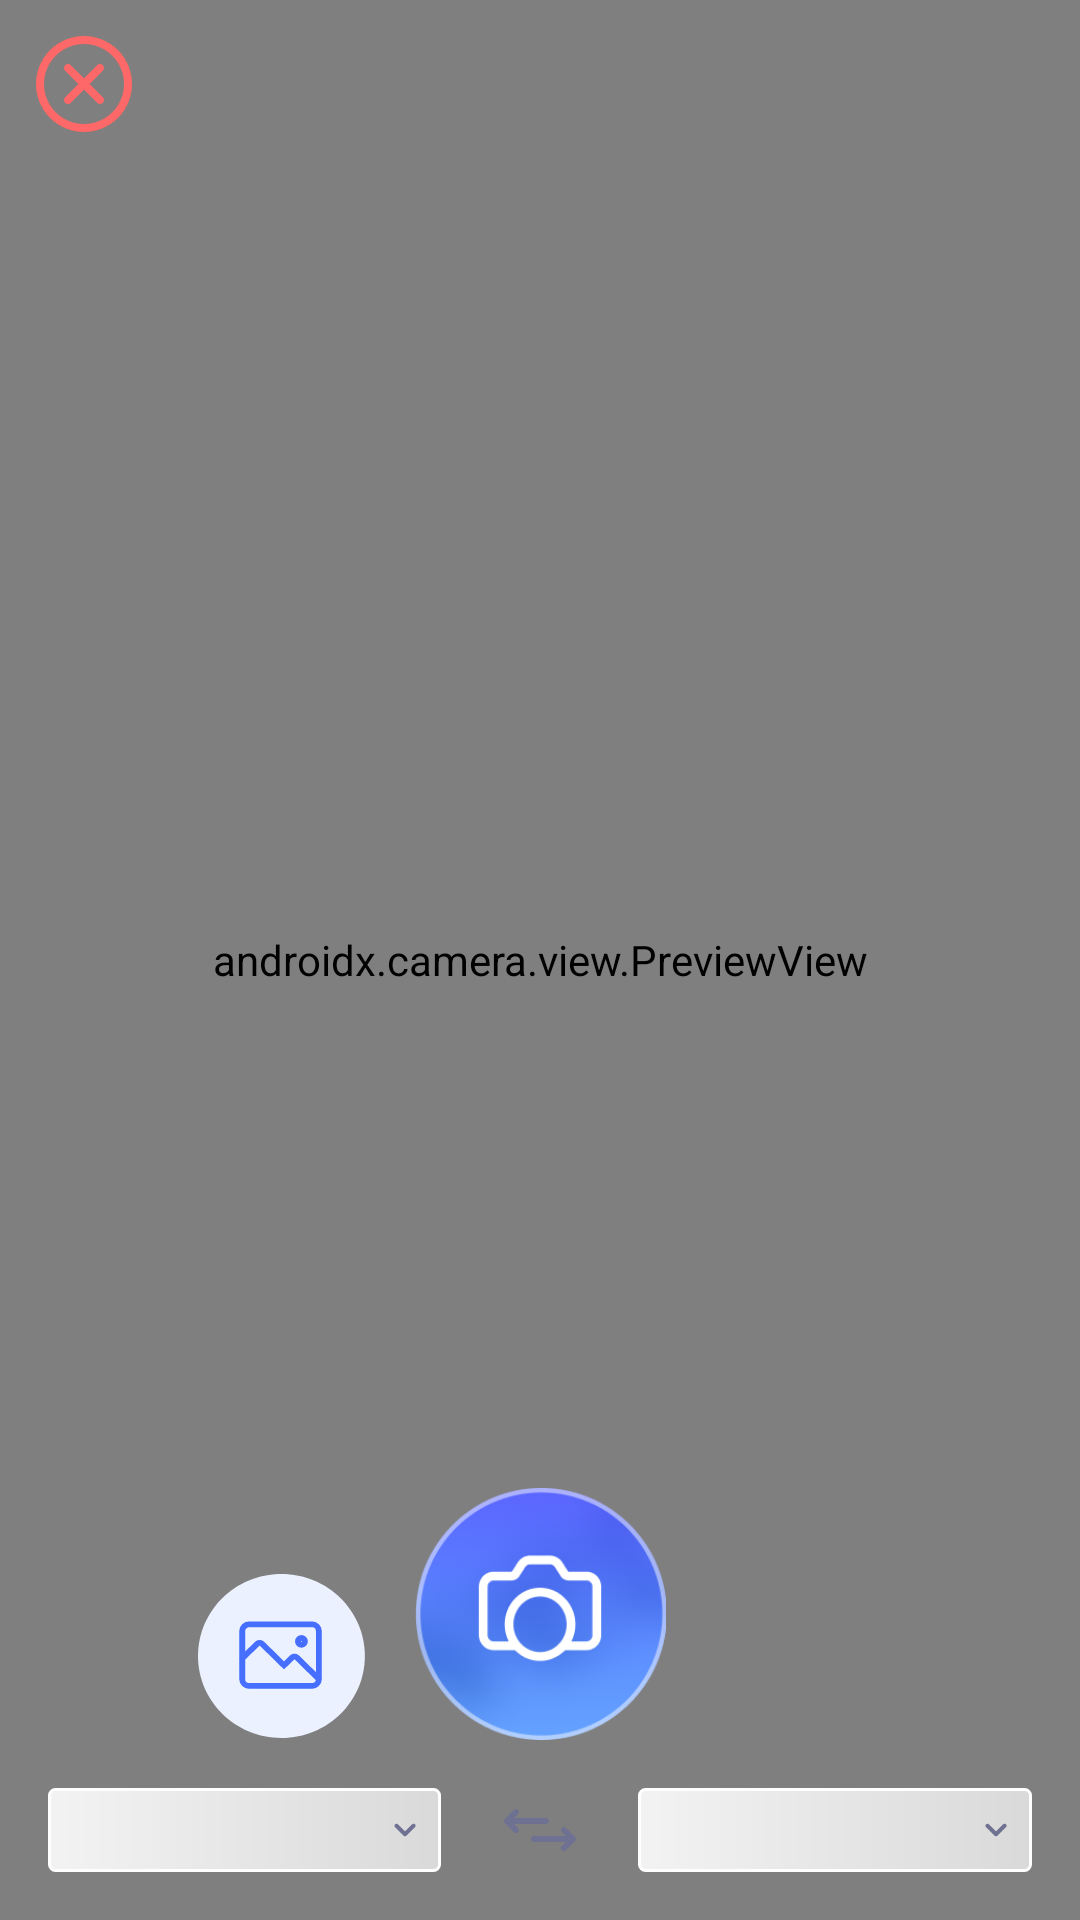

Named icons in this screenshot (1080px x 1920px) and their bounding boxes, box=[x1, y1, x2, y2]:
close: box=[36, 36, 132, 132]
gallery: box=[198, 1574, 365, 1738]
